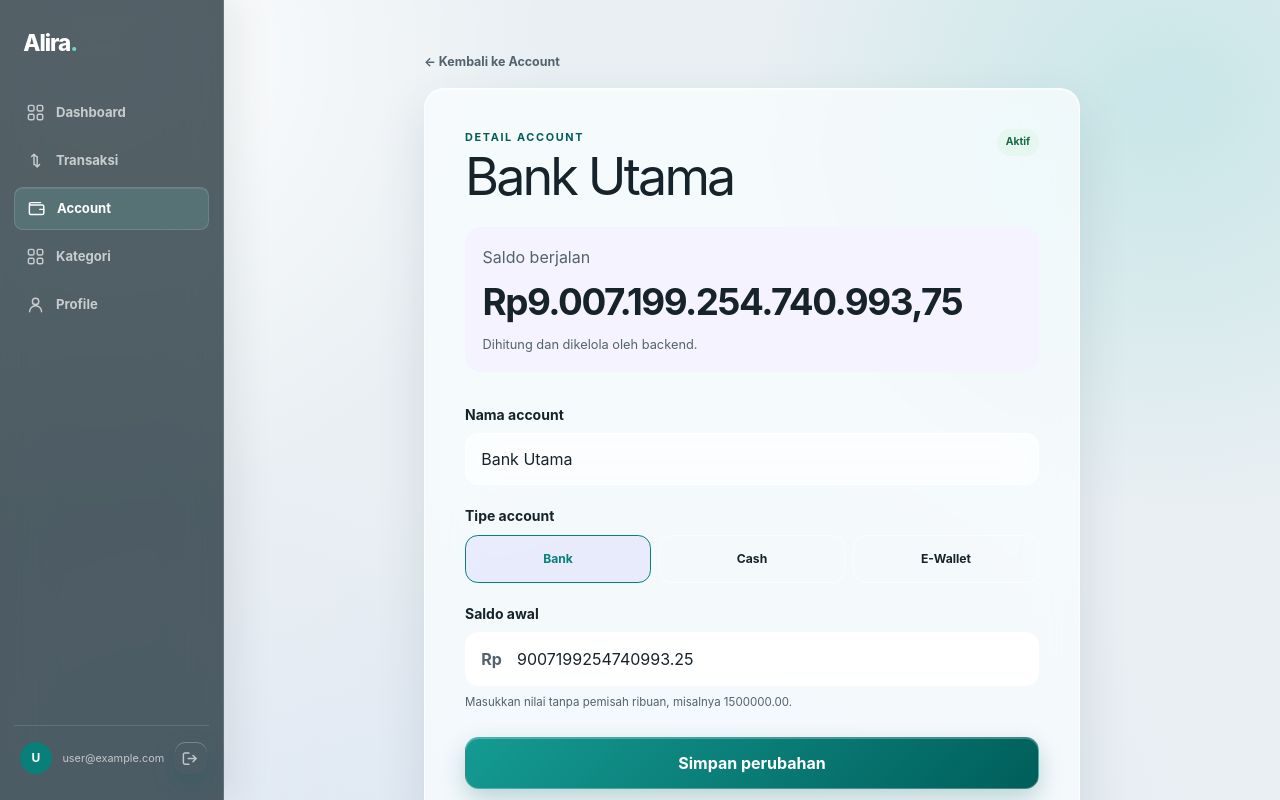
account management › loads detail, updates fields, and refetches account queries
Expected: the text "Rp9.007.199.254.740.993,75" is shown, [483, 274, 1021, 330]
Replace the text in the field labelled "Nama account" with "Bank Baru" at (752, 459), box [465, 433, 1039, 485]
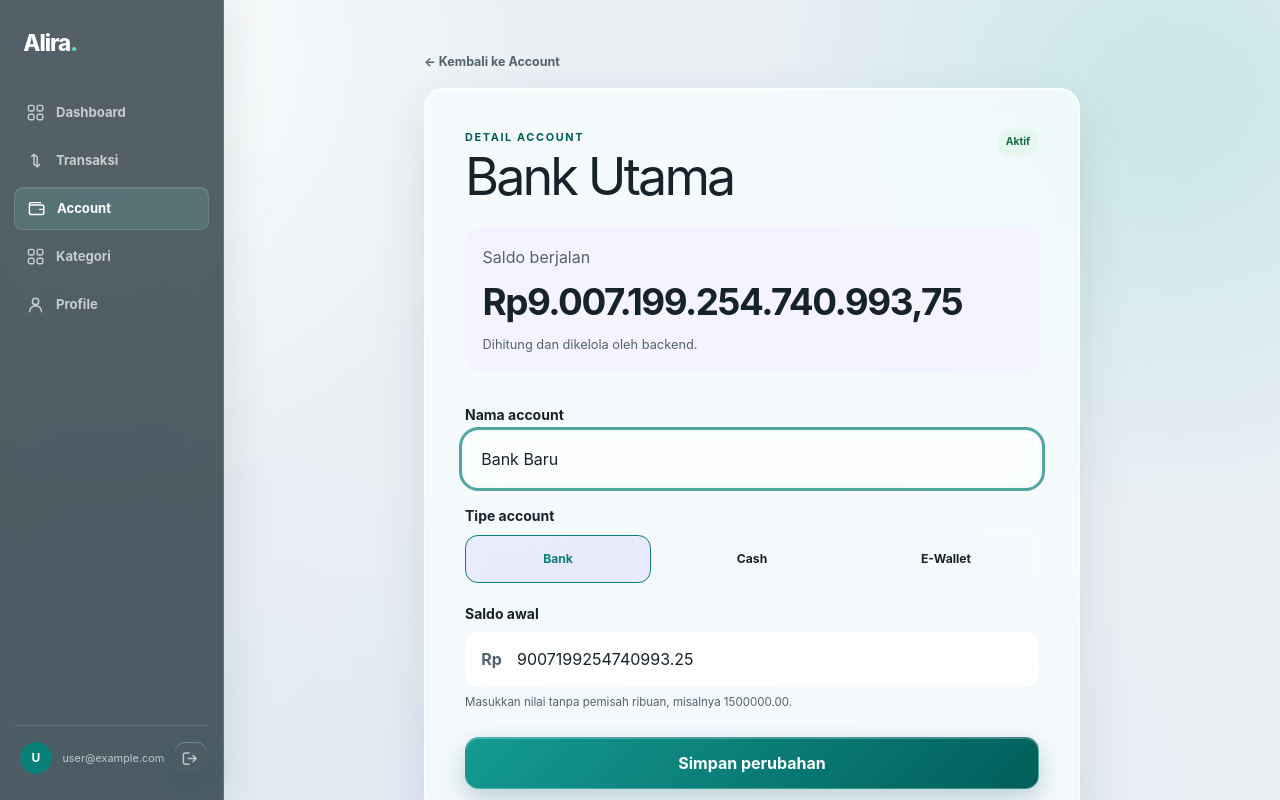
Click the button "Simpan perubahan" at (752, 763), box [465, 737, 1039, 789]
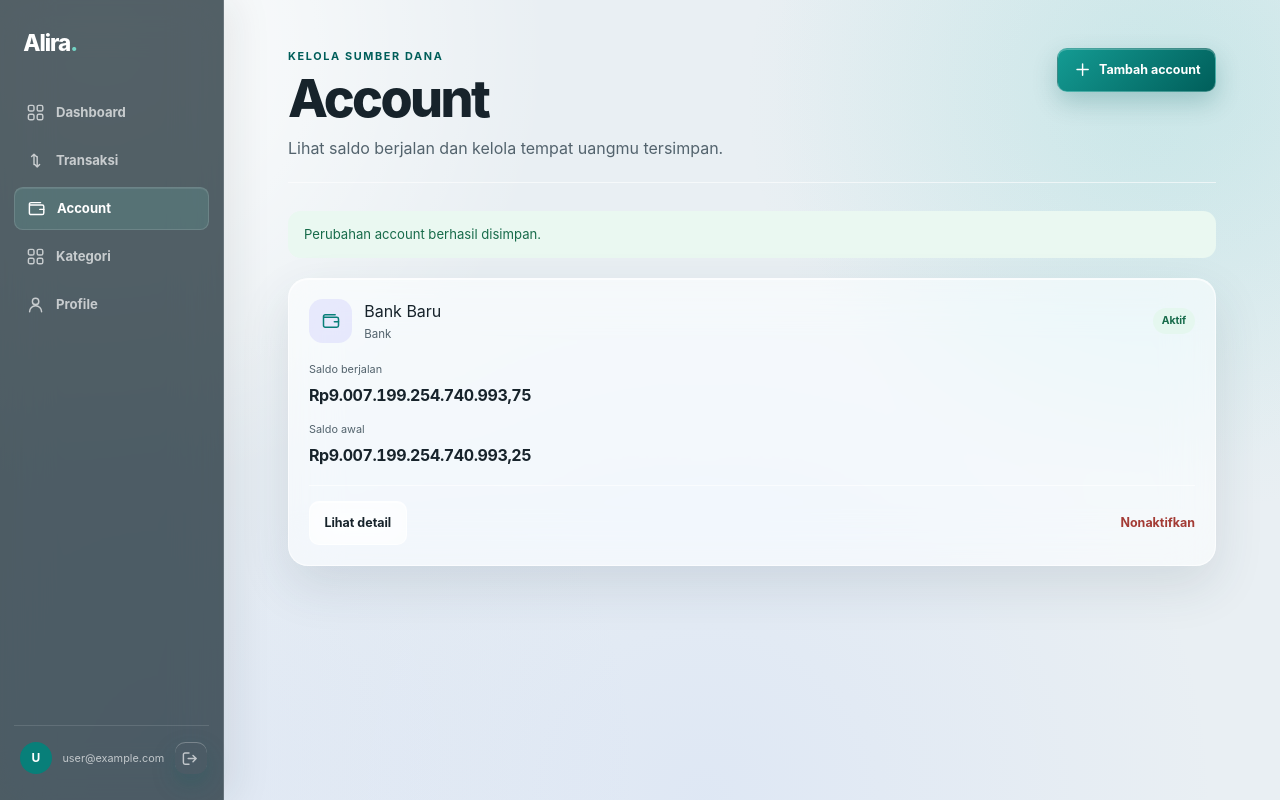
Result: the text "Perubahan account berhasil disimpan." is shown at [288, 211, 1216, 258]
